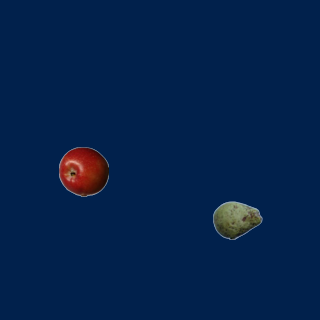Apple Braeburn: (58, 146, 108, 196)
Pear Stone: (212, 195, 262, 245)
